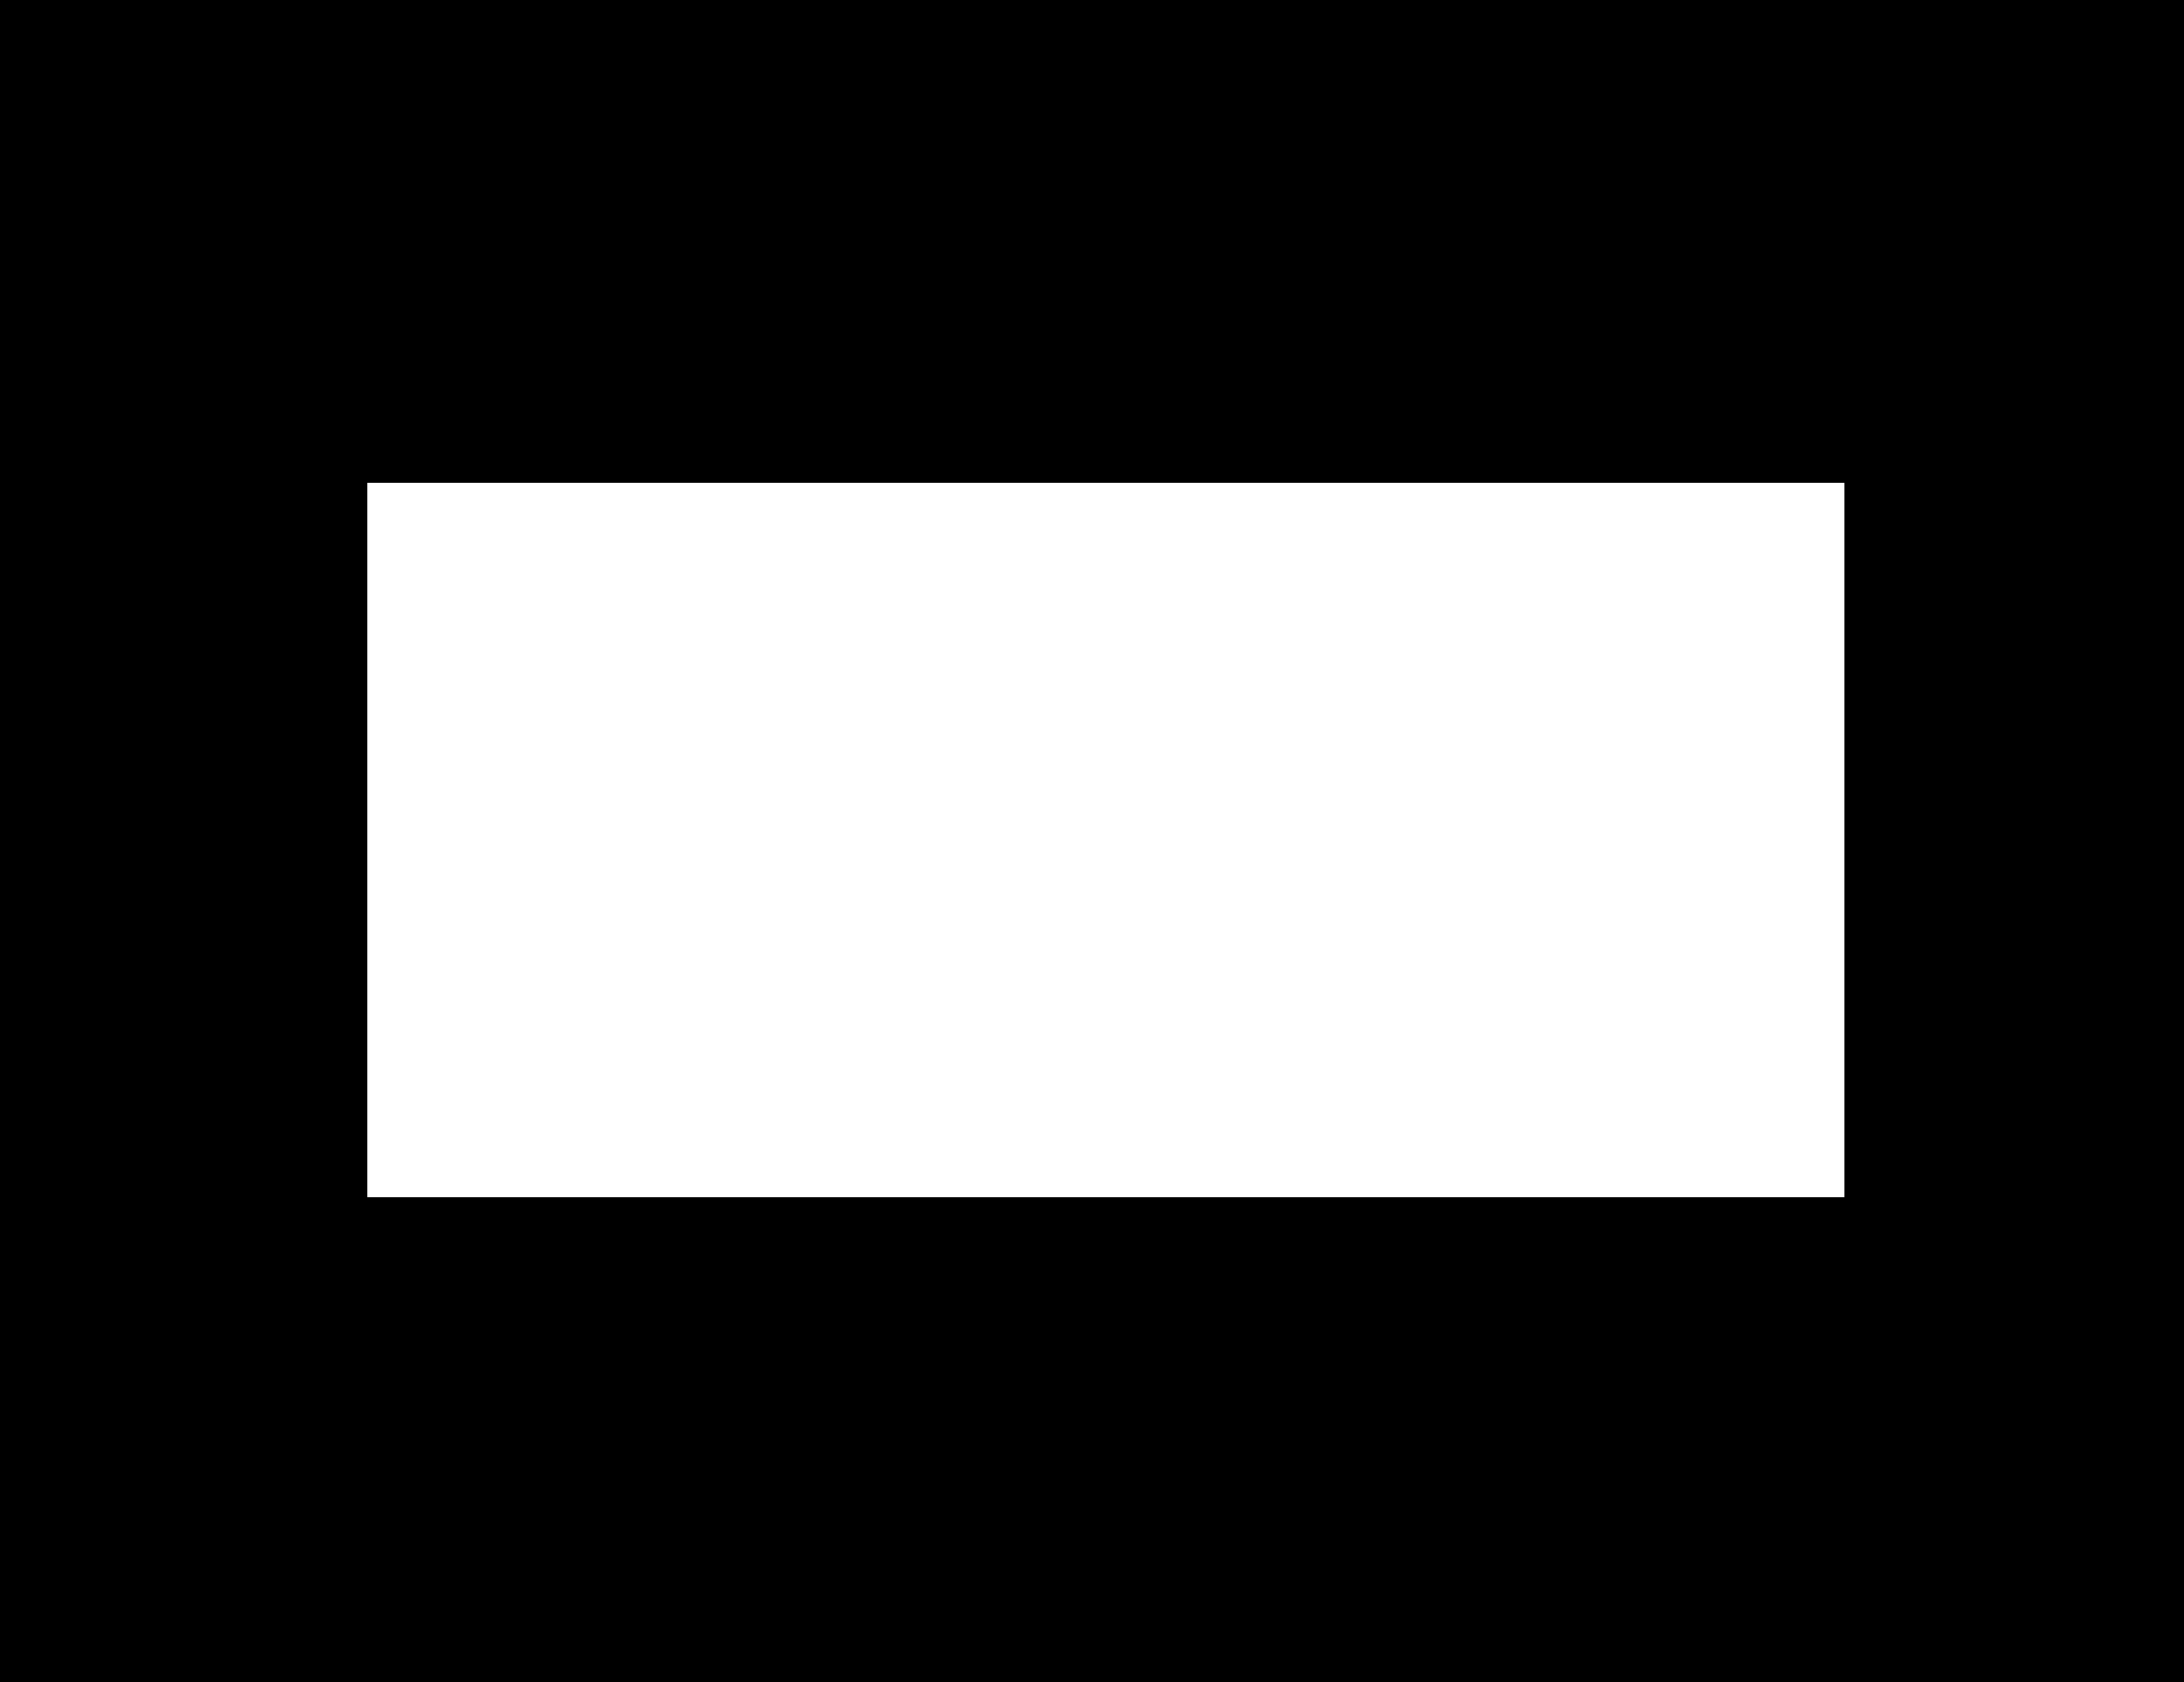table: (367, 482, 1843, 1196)
